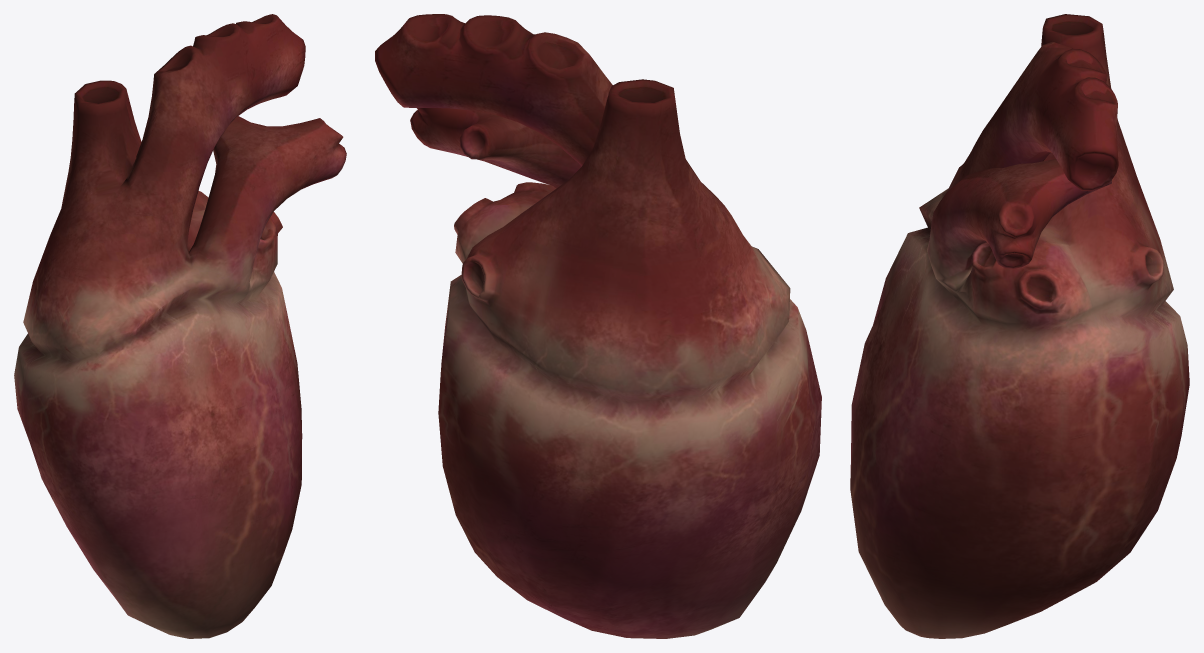
File: heart_-_animated_anatomical_3d_model.glb
3 renders of one model, left to right at view 1: azimuth 30°, elevation 25°; view 2: azimuth 150°, elevation 25°; view 3: azimuth 270°, elevation 25°, orthographic. The views are drawn at different scales.
Parts seen in each view (by area): view 1: heart_2; view 2: heart_2; view 3: heart_2.
Boxes of the visible parts, x1,y1,x2,y2 form: heart_2: (14,14,346,638); heart_2: (375,14,821,638); heart_2: (850,14,1189,638).
Bounding box in the file's own units: 168 × 275 × 137.
Materials: 1 (1 with a texture image).
